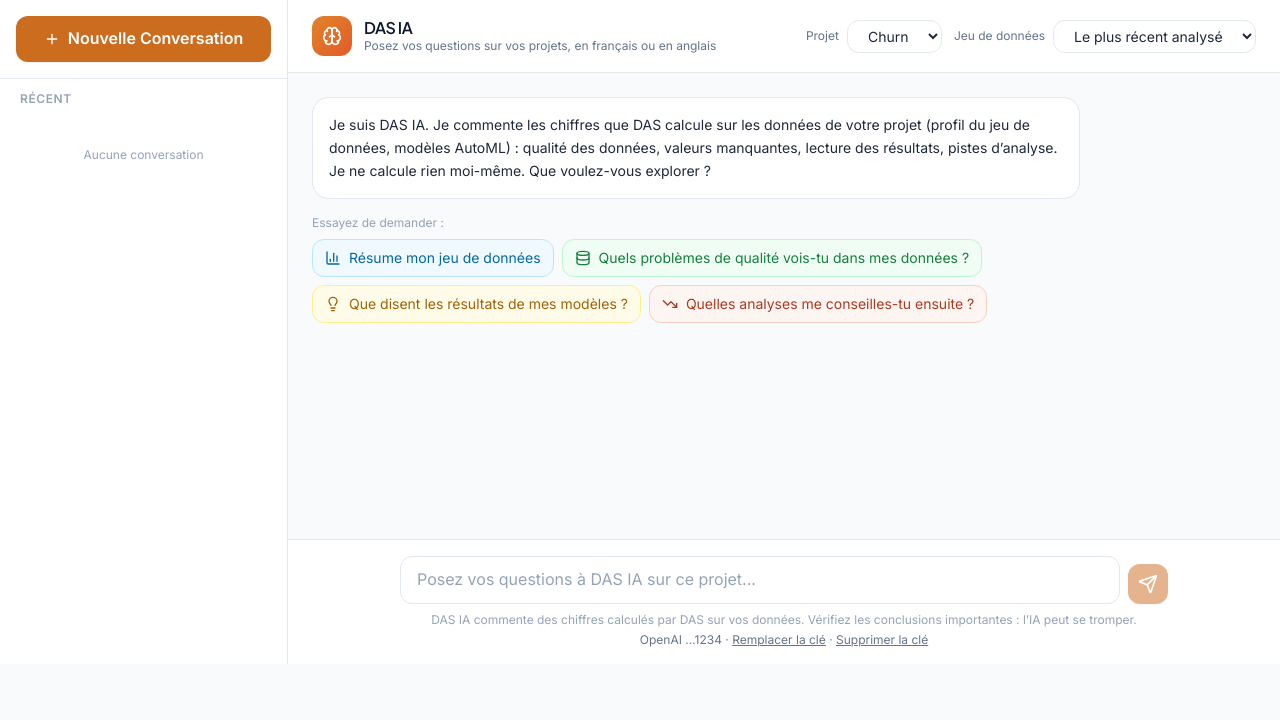
Scenario: AssistantPage › quota atteint : message d’erreur clair et texte rendu à l’utilisateur
Expected: the dropdown labelled "Projet" shows "Churn", x1=847 y1=20 x2=942 y2=52
Type "encore une question" into the text box with placeholder "Posez vos questions à DAS IA sur ce projet..." at (760, 580), box x1=400 y1=556 x2=1120 y2=604
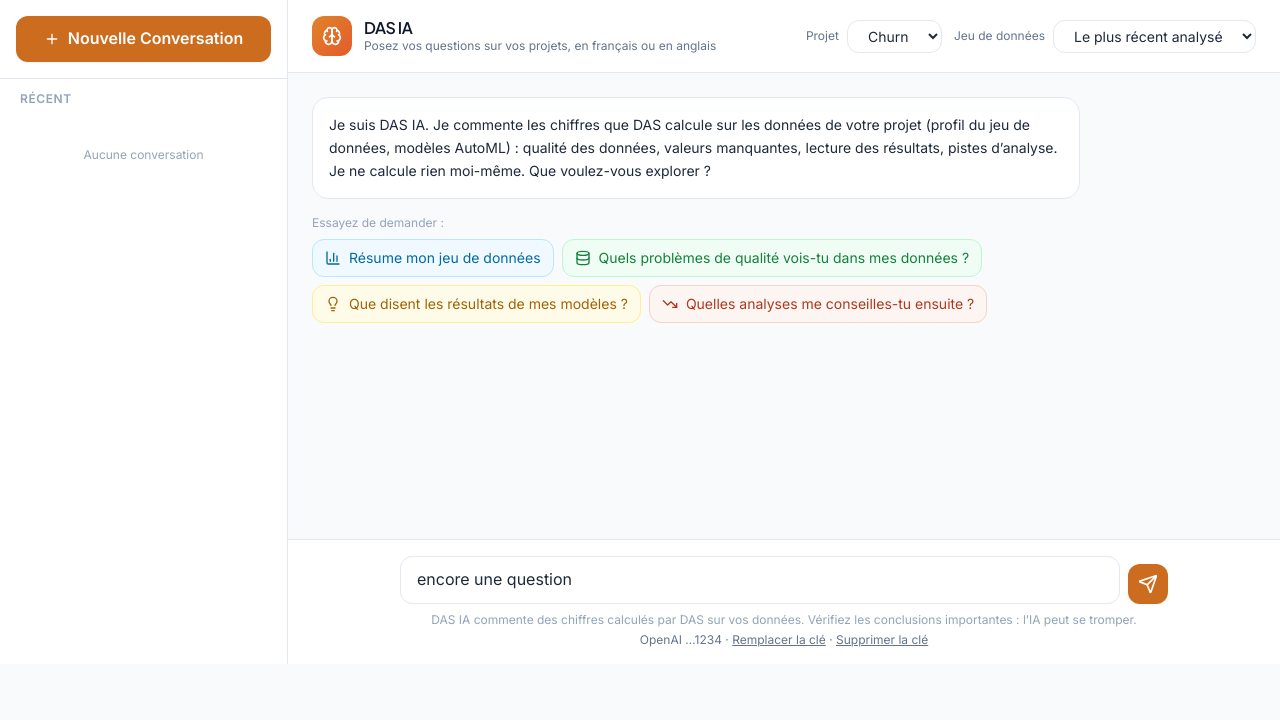
Click the button named "Envoyer" at (1148, 584), box x1=1128 y1=564 x2=1168 y2=604
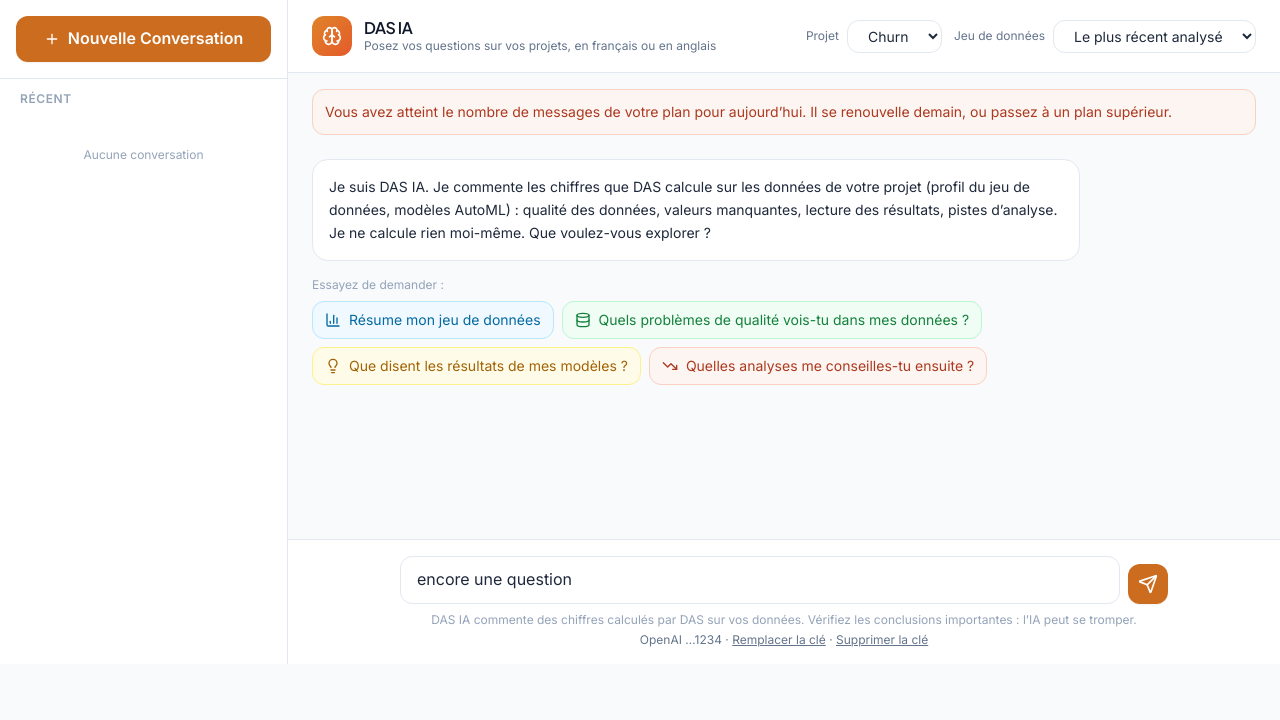
Now the text "nombre de messages de votre plan" shows "demain", box x1=325 y1=103 x2=1172 y2=120
